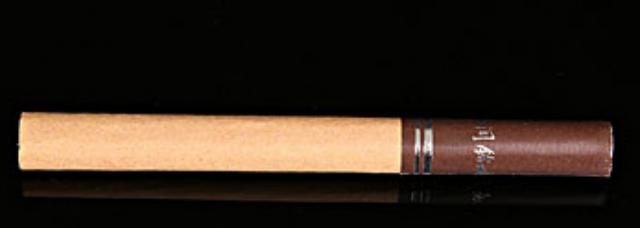Cigarette: (20, 110, 612, 177)
